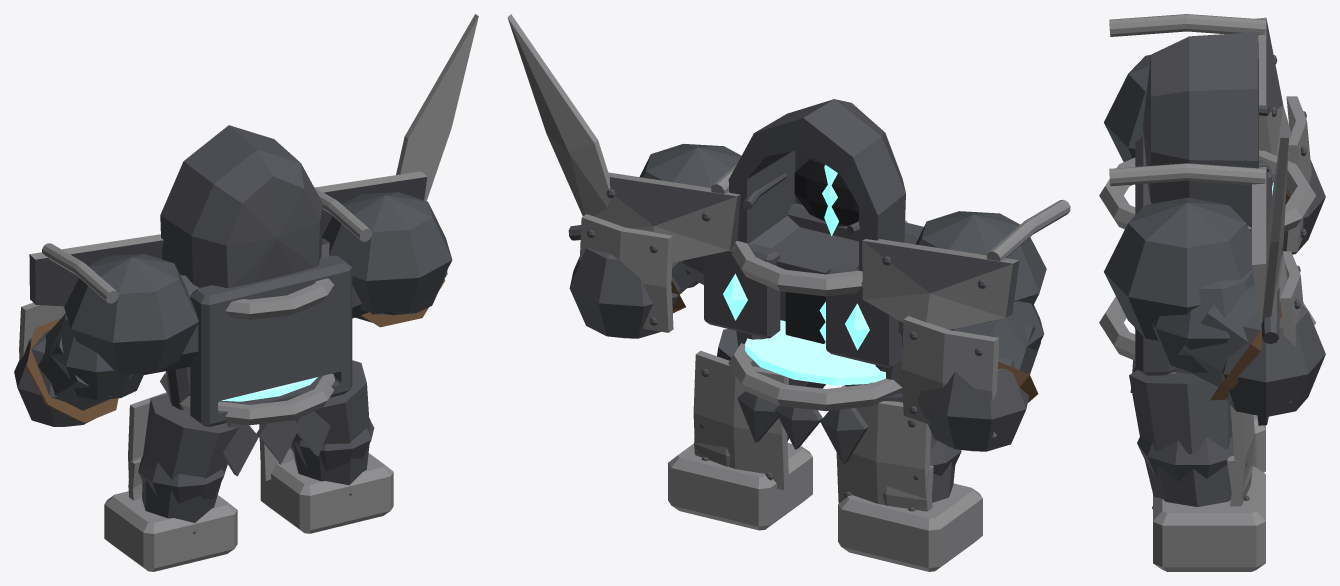
File: host_46.glb
3 renders of one model, left to right at view 1: azimuth 30°, elevation 25°; view 2: azimuth 150°, elevation 25°; view 3: azimuth 270°, elevation 25°, orthographic. The views are drawn at different scales.
Visible parts, largest first — view 1: V6 source fitted domed cloth hood, Separated phantom armor upper chest plate, Connected shoulder L, Connected shoulder R, Grounded boot L, Grounded boot R, Upper leg L, V6 revenant actual contacting continuous iron soul aperture  (×2), V6 source curved forged sword blade, V6 source angled fitted shoulder plate L, V6 revenant source contacting fitted segmented iron hip lame (×3), Elbow contacting articulated joint L (+17 smaller); view 2: V6 source fitted domed cloth hood, V6 source angled fitted shoulder plate L, Grounded boot L, V6 source angled fitted shoulder plate R, Grounded boot R, V6 revenant actual contacting continuous iron soul aperture  (×2), V6 source articulated leg armor R upper_leg, V6 source articulated leg armor L upper_leg, V6 source curved forged sword blade, Grasping hand L, V6 source wrapped wrist armor L, Grasping hand R (+15 smaller); view 3: V6 source fitted domed cloth hood, Connected shoulder R, Grounded boot R, Grasping hand R, Upper leg R, Elbow contacting articulated joint R, V6 revenant actual contacting continuous iron soul aperture  (×2), Forearm R, V6 source continuous shoulder top metal binding R, Connected shoulder L, V6 source continuous shoulder top metal binding L, Knee contacting articulated joint R (+13 smaller).
Part boxes in pixels (box(x1,y1,x2,y2)): V6 source fitted domed cloth hood: box(160, 125, 323, 288); Separated phantom armor upper chest plate: box(190, 255, 352, 426); Connected shoulder L: box(64, 254, 198, 374); Connected shoulder R: box(322, 192, 452, 312); Grounded boot L: box(104, 491, 237, 571); Grounded boot R: box(260, 453, 393, 533); Upper leg L: box(143, 393, 238, 479); V6 revenant actual contacting continuous iron soul aperture  (×2): box(160, 278, 334, 425); V6 source curved forged sword blade: box(396, 14, 478, 200); V6 source angled fitted shoulder plate L: box(29, 234, 163, 306); V6 revenant source contacting fitted segmented iron hip lame (×3): box(223, 411, 330, 476); Elbow contacting articulated joint L: box(49, 313, 143, 399); V6 source fitted domed cloth hood: box(728, 99, 905, 274); V6 source angled fitted shoulder plate L: box(862, 239, 1019, 329); Grounded boot L: box(838, 483, 982, 571); V6 source angled fitted shoulder plate R: box(594, 172, 740, 263); Grounded boot R: box(668, 443, 812, 530); V6 revenant actual contacting continuous iron soul aperture  (×2): box(728, 220, 907, 411); V6 source articulated leg armor R upper_leg: box(693, 350, 789, 489); V6 source articulated leg armor L upper_leg: box(836, 385, 930, 511); V6 source curved forged sword blade: box(507, 14, 610, 216); Grasping hand L: box(918, 356, 1028, 451); V6 source wrapped wrist armor L: box(901, 316, 999, 437); Grasping hand R: box(569, 248, 679, 338); V6 source fitted domed cloth hood: box(1143, 32, 1258, 227); Connected shoulder R: box(1104, 197, 1252, 340); Grounded boot R: box(1153, 466, 1265, 571); Grasping hand R: box(1221, 306, 1325, 416); Upper leg R: box(1129, 370, 1232, 454); Elbow contacting articulated joint R: box(1151, 270, 1254, 372); V6 revenant actual contacting continuous iron soul aperture  (×2): box(1099, 150, 1316, 373); Forearm R: box(1177, 286, 1257, 386); V6 source continuous shoulder top metal binding R: box(1109, 163, 1265, 186); Connected shoulder L: box(1104, 55, 1150, 161); V6 source continuous shoulder top metal binding L: box(1109, 14, 1265, 36); Knee contacting articulated joint R: box(1137, 436, 1233, 481).
Bounding box in the file's own units: 1.9 × 1.66 × 0.6616.
